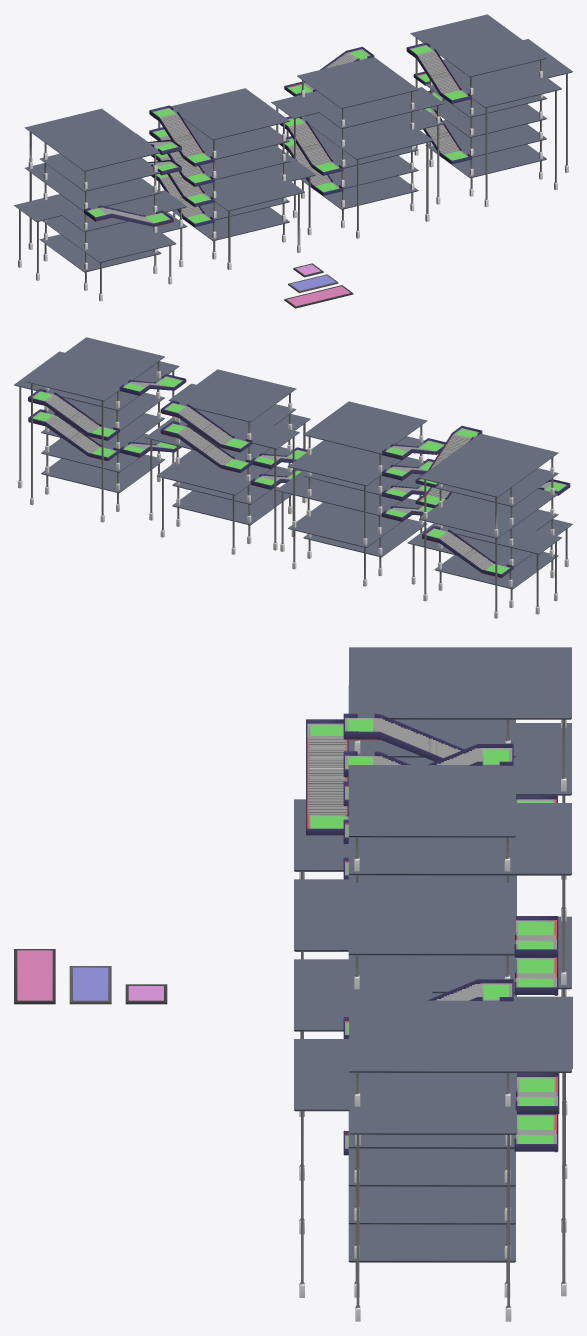
Rendered from Stacks Models 1.fbx.
The picture shows the model from 3 angles, top to bottom: view 1: azimuth 30°, elevation 25°; view 2: azimuth 150°, elevation 25°; view 3: azimuth 270°, elevation 25°; orthographic projection. The views are drawn at different scales.
Parts seen in each view (by area): view 1: Cube.026, Cube.018, Cube.010, Cube.009, Cube.011, Cube.012, Cube.028, Cube.027, Cube.013, Cube.014, Cube.017, Cube.025 (+24 smaller); view 2: Cube.018, Cube.026, Cube.017, Cube.027, Cube.028, Cube.024, Cube.016, Cube.015, Cube.013, Cube.011, Cube.014, Cube.008 (+27 smaller); view 3: Cube.018, Cube.026, Cube.009, Cube.027, Cube.028, Cube.024, Cube.008, Cube.020, Cube.021, Cube.013, Cube.035, Cube.017 (+17 smaller).
Boxes of the visible parts, x1,y1,x2,y2 form: Cube.026: [24, 108, 160, 189]; Cube.018: [410, 14, 546, 155]; Cube.010: [302, 109, 444, 238]; Cube.009: [429, 39, 572, 207]; Cube.011: [200, 145, 315, 269]; Cube.012: [42, 212, 187, 301]; Cube.028: [297, 57, 418, 126]; Cube.027: [171, 88, 289, 157]; Cube.013: [271, 87, 444, 218]; Cube.014: [14, 190, 186, 280]; Cube.017: [25, 163, 161, 249]; Cube.025: [40, 153, 160, 208]; Cube.018: [26, 337, 164, 522]; Cube.026: [419, 433, 558, 536]; Cube.017: [419, 489, 558, 618]; Cube.027: [303, 401, 427, 472]; Cube.028: [175, 369, 296, 439]; Cube.024: [288, 436, 424, 545]; Cube.016: [288, 498, 423, 586]; Cube.015: [157, 447, 292, 554]; Cube.013: [168, 383, 299, 550]; Cube.011: [276, 471, 422, 551]; Cube.014: [435, 492, 561, 614]; Cube.008: [41, 454, 164, 511]; Cube.018: [349, 1000, 571, 1296]; Cube.026: [349, 647, 571, 791]; Cube.009: [294, 1039, 516, 1321]; Cube.027: [348, 765, 515, 871]; Cube.028: [348, 883, 515, 989]; Cube.024: [349, 803, 571, 984]; Cube.008: [348, 1224, 515, 1297]; Cube.020: [348, 1186, 515, 1258]; Cube.021: [348, 1148, 515, 1220]; Cube.013: [348, 955, 515, 1015]; Cube.035: [306, 719, 348, 835]; Cube.017: [394, 723, 571, 879].
Bounding box in the file's own units: 8008 × 1843 × 4009.
